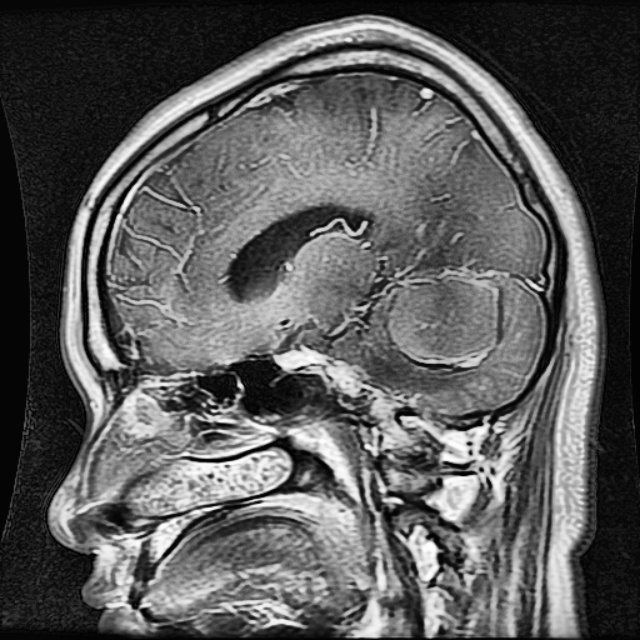Meningioma: (388, 273, 505, 367)
